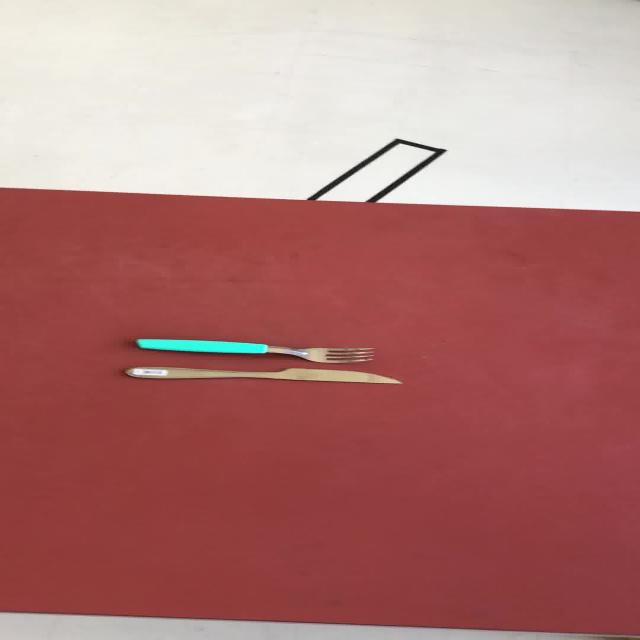fork: (133, 338, 375, 363)
knife fork: (122, 366, 402, 384)
